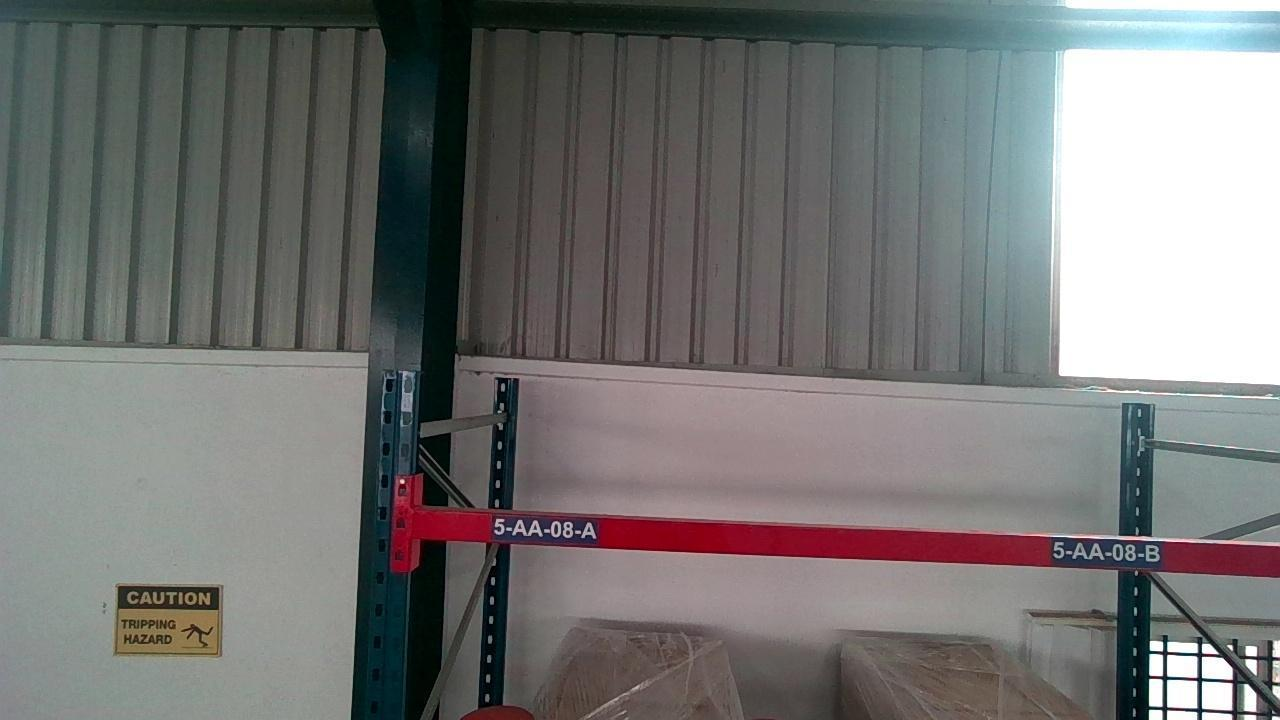h_rack: (410, 509, 1280, 579)
